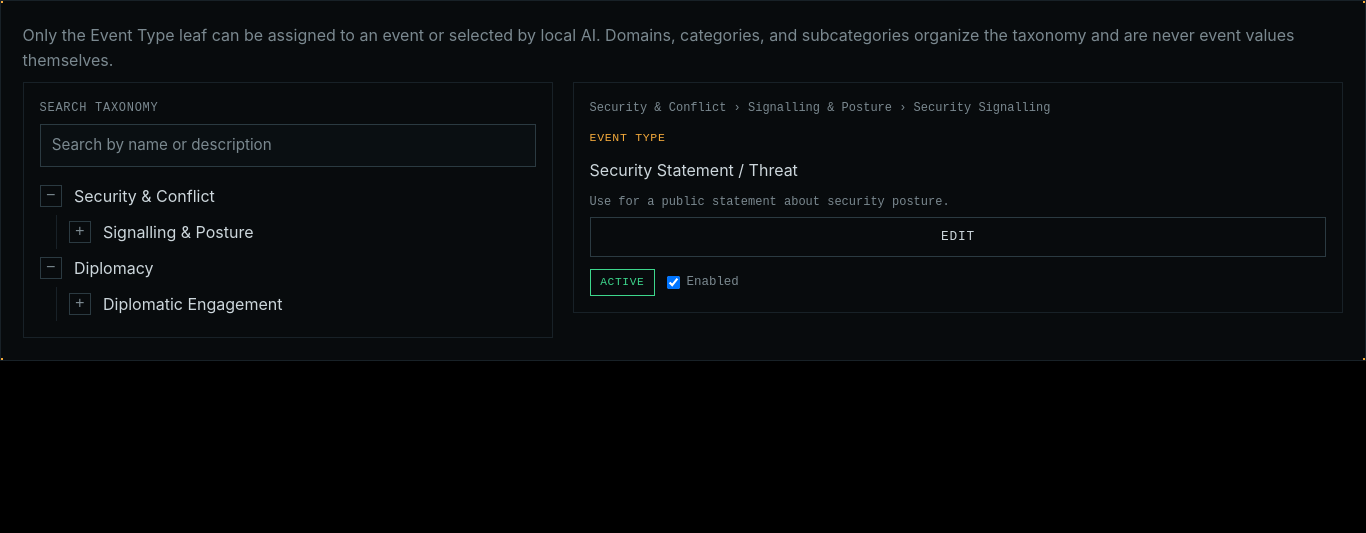
EventTypeSettings › hides edit fields until Edit is clicked, then saves the name and description together
The image size is (1366, 533).
Click the button with aria-label "Edit Security Statement / Threat" at (958, 237), box [590,217,1326,257]
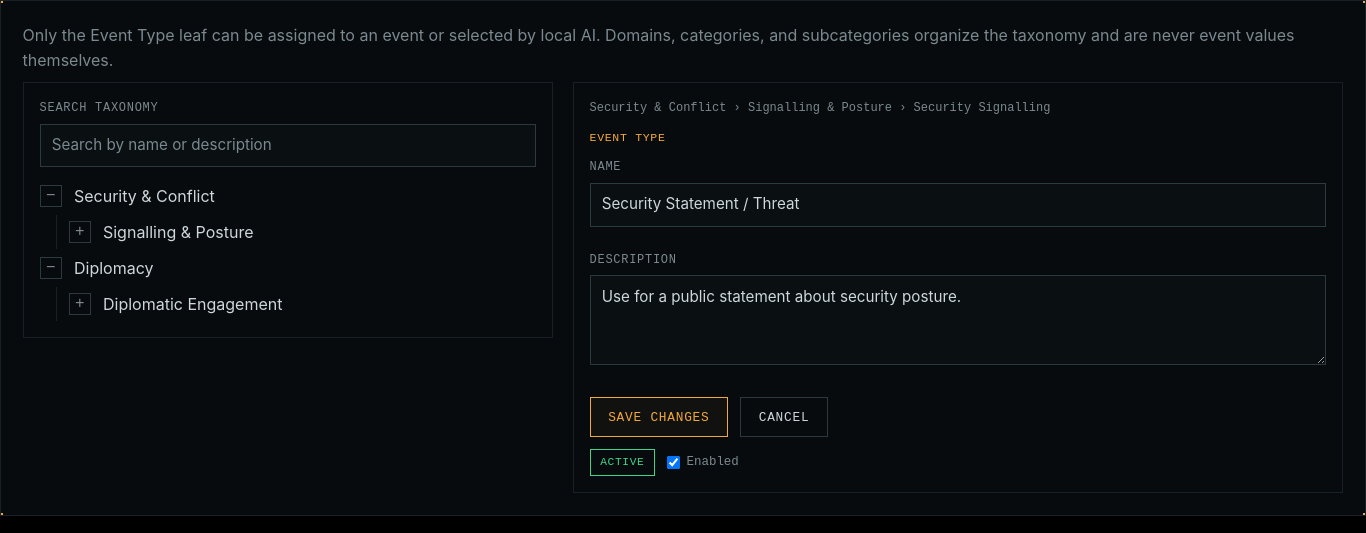
Replace the text in the field labelled "Name" with "Security Statement (renamed)" at (958, 205), box [590,183,1326,227]
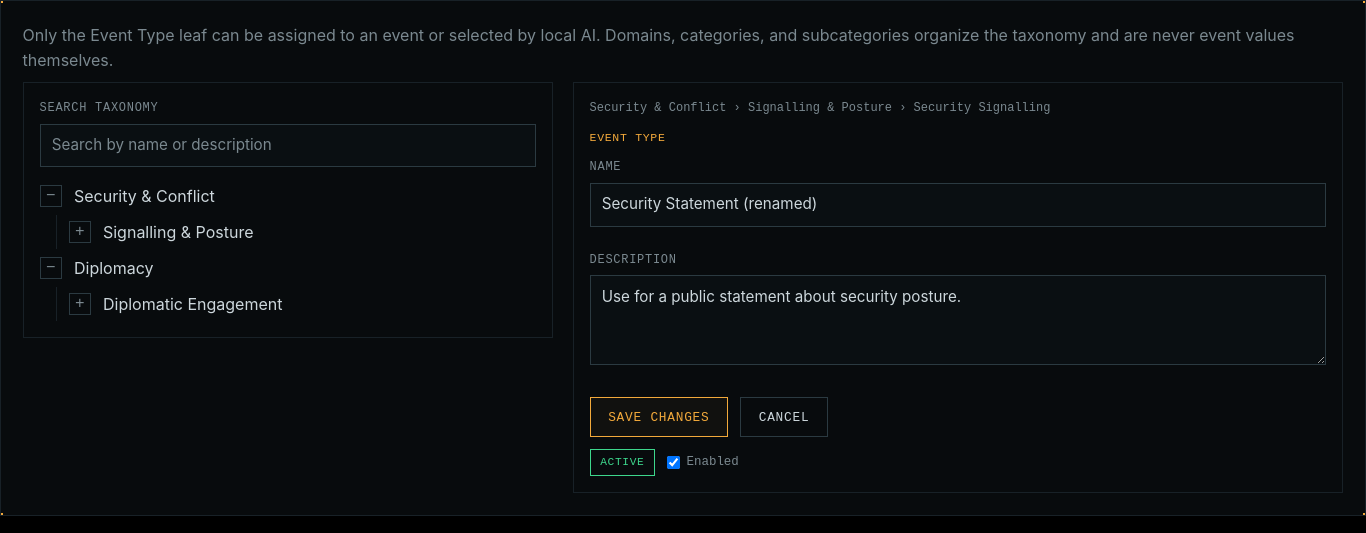
Replace the text in the text box labelled "Description" with "Updated definition." at (958, 320), box [590,276,1326,365]
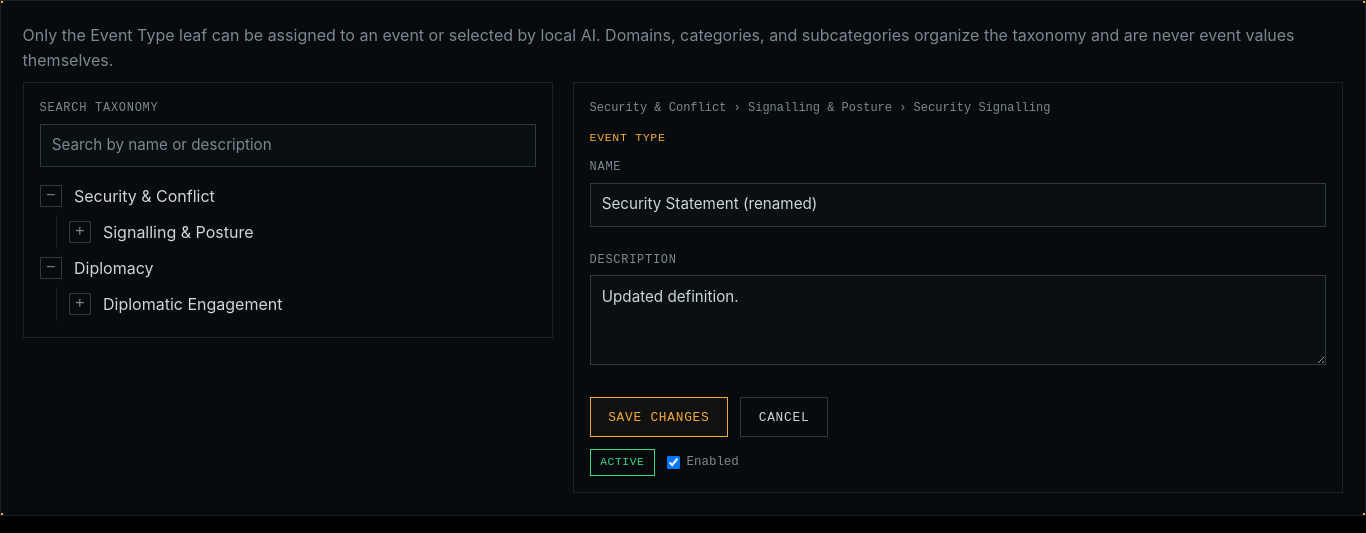
Click the button "Save changes" at (659, 417), box [590,397,728,437]
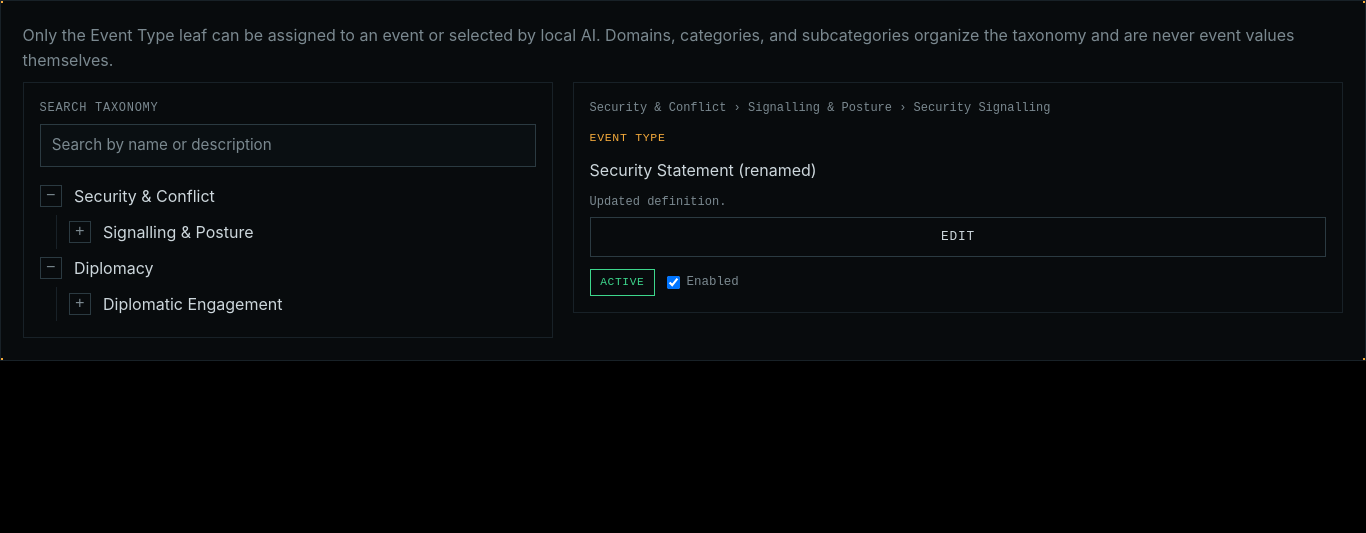
Result: the heading "Security Statement (renamed)" is shown at [590,160,817,180]
